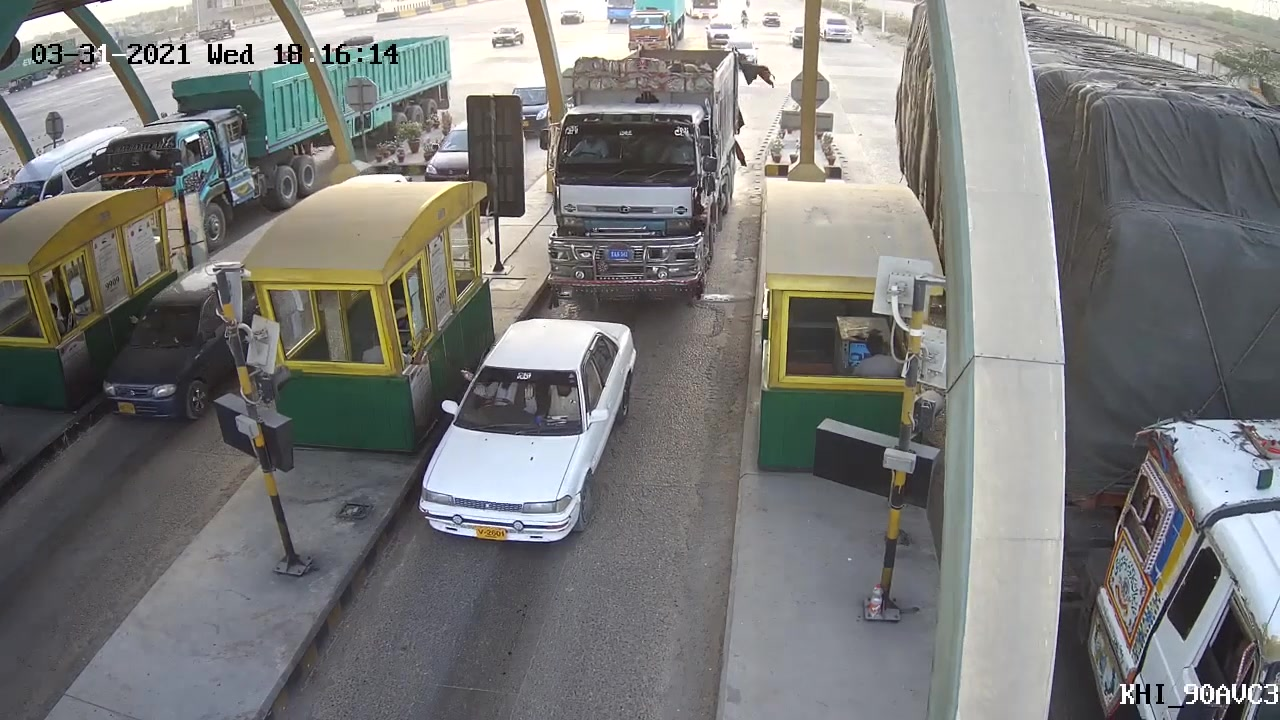F1: (461, 333, 679, 569), (612, 203, 736, 318)
